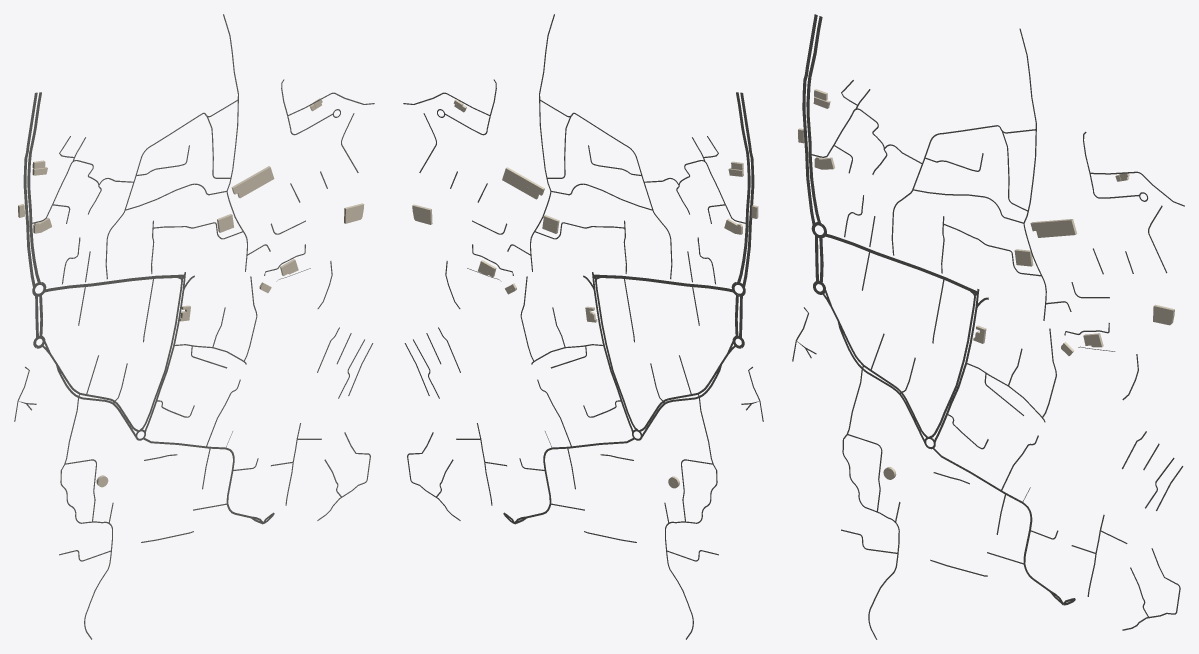
Rendered from historic-palestine-09_21_3510_3155.glb.
The picture shows the model from 3 angles, left to right: view 1: azimuth 30°, elevation 25°; view 2: azimuth 150°, elevation 25°; view 3: azimuth 330°, elevation 25°; orthographic projection. The views are drawn at different scales.
Parts seen in each view (by area): view 1: Road شارع القدس-الخليل.003, Road شارع القدس-الخليل, Building_.008, Road شارع بئر حرم الرامة, Road شارع أبو بكر الصديق; view 2: Road شارع القدس-الخليل, Road شارع القدس-الخليل.003, Building_.008, Road شارع بئر حرم الرامة, Road شارع أبو بكر الصديق; view 3: Road شارع القدس-الخليل.003, Road شارع القدس-الخليل, Building_.008, Road شارع بئر حرم الرامة, Road شارع أبو بكر الصديق, Road .060.
Part boxes in pixels (x1,y1,x2,y2): Road شارع القدس-الخليل.003: (23,92,37,287); Road شارع القدس-الخليل: (27,92,41,283); Building_.008: (231,166,274,198); Road شارع بئر حرم الرامة: (44,274,184,292); Road شارع أبو بكر الصديق: (60,394,112,639); Road شارع القدس-الخليل: (736,92,750,283); Road شارع القدس-الخليل.003: (740,92,754,287); Building_.008: (502,167,544,199); Road شارع بئر حرم الرامة: (593,274,732,292); Road شارع أبو بكر الصديق: (665,394,717,639); Road شارع القدس-الخليل.003: (802,14,817,224); Road شارع القدس-الخليل: (806,16,822,223); Building_.008: (1030,219,1077,237); Road شارع بئر حرم الرامة: (825,234,977,294); Road شارع أبو بكر الصديق: (842,365,899,639); Road .060: (1019,28,1046,320).
Bounding box in the file's own units: 1004 × 1580 × 9.09.
